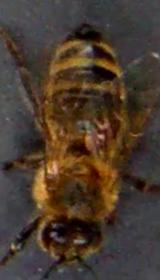varroa_mite: (90, 114, 126, 148)
